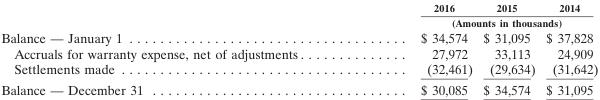table: (0, 1, 597, 97)
table column: (0, 1, 361, 97), (361, 1, 477, 97), (477, 1, 540, 97), (540, 1, 597, 97)
table column header: (0, 1, 597, 29)
table row: (0, 78, 597, 97), (0, 60, 597, 78), (0, 29, 597, 45), (0, 14, 597, 29), (0, 45, 597, 60), (0, 1, 597, 14)
table spanning cell: (361, 14, 597, 29)
